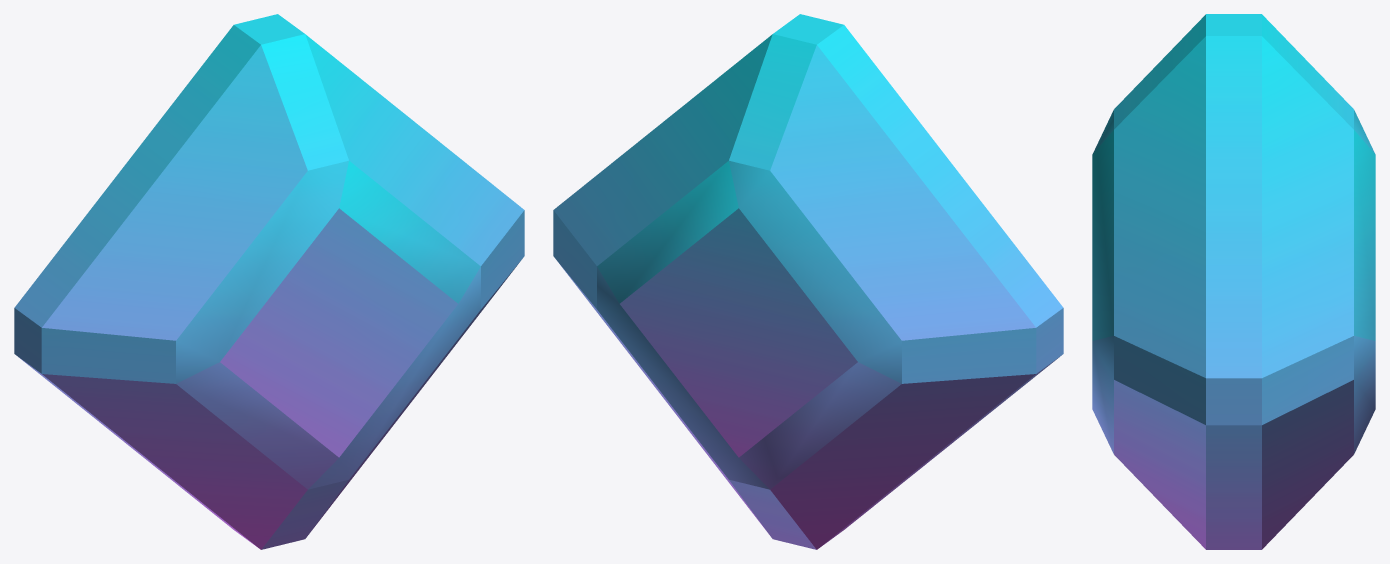
The model's file is gem_medium.glb.
3 views of the same model, side by side, from view 1: azimuth 30°, elevation 25°; view 2: azimuth 150°, elevation 25°; view 3: azimuth 270°, elevation 25° (orthographic).
Parts seen in each view (by area): view 1: Gem_Medium; view 2: Gem_Medium; view 3: Gem_Medium.
Boxes of the visible parts, x1,y1,x2,y2 form: Gem_Medium: (14,14,524,549); Gem_Medium: (553,14,1063,549); Gem_Medium: (1092,14,1375,549).
Size of the model in its own units: 0.45 by 0.45 by 0.225.
Materials: 1 (1 with a texture image).
